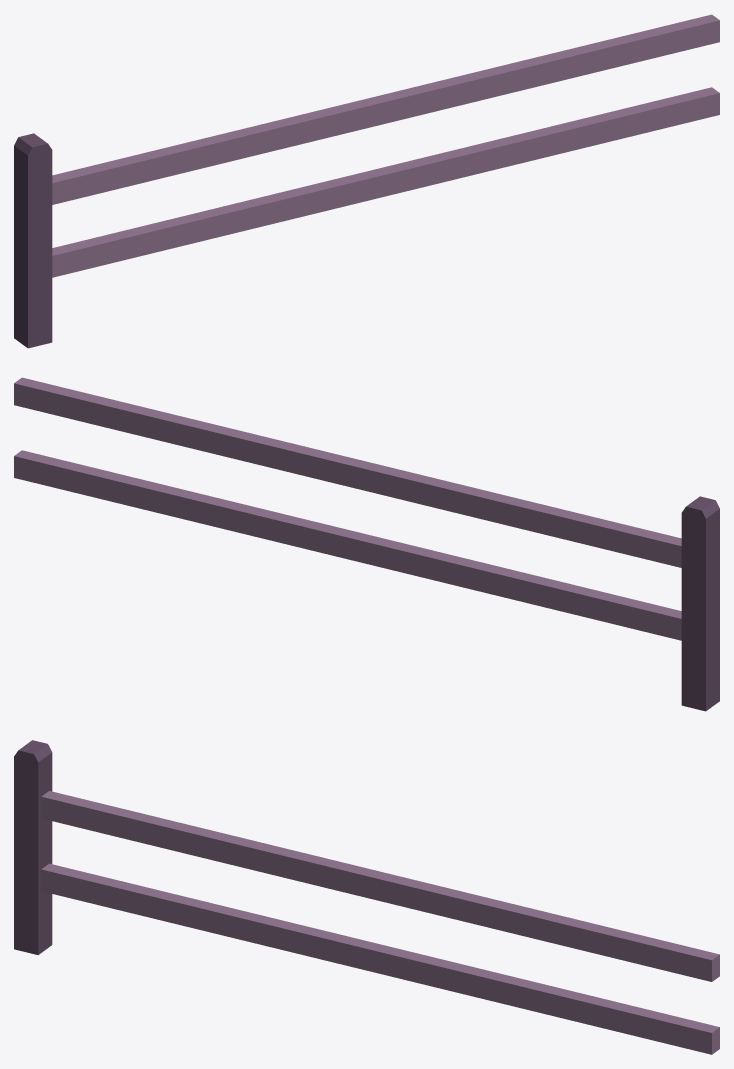
The model's file is TW_WOOD_RAIL_4M_A_LOD0.glb.
3 renders of one model, top to bottom at view 1: azimuth 30°, elevation 25°; view 2: azimuth 150°, elevation 25°; view 3: azimuth 330°, elevation 25°, orthographic.
Visible parts, largest first — view 1: TW_WOOD_RAIL_4M_A_LOD0; view 2: TW_WOOD_RAIL_4M_A_LOD0; view 3: TW_WOOD_RAIL_4M_A_LOD0.
Part boxes in pixels (bbox=[...]): TW_WOOD_RAIL_4M_A_LOD0: bbox=[14, 14, 719, 348]; TW_WOOD_RAIL_4M_A_LOD0: bbox=[14, 377, 719, 711]; TW_WOOD_RAIL_4M_A_LOD0: bbox=[14, 740, 719, 1054].
Bounding box in the file's own units: 4 × 1.1 × 0.14.
Materials: 1 (1 with a texture image).
